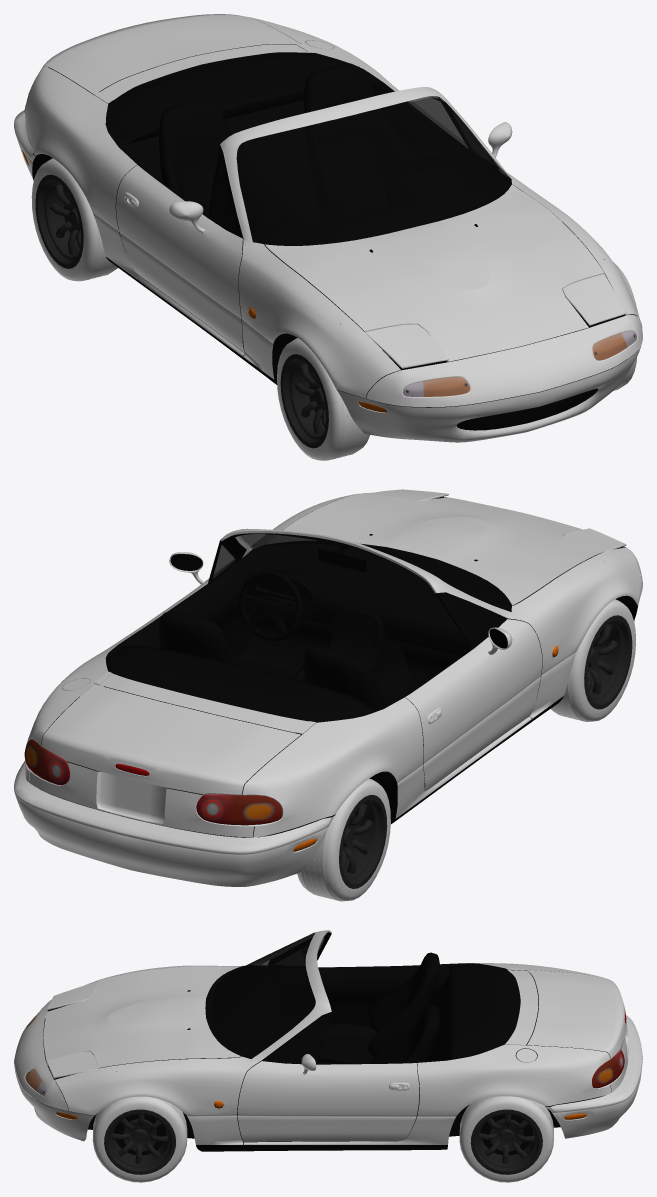
The model's file is miata.obj.
The picture shows the model from 3 angles, top to bottom: view 1: azimuth 30°, elevation 25°; view 2: azimuth 150°, elevation 25°; view 3: azimuth 270°, elevation 25°; orthographic projection. The views are drawn at different scales.
Parts seen in each view (by area): view 1: Cube.001, Circle.004, Circle.005, Cube.007, Plane; view 2: Cube.001, Circle.005, Circle.004, Cube.007; view 3: Cube.001, Circle.002, Circle.003, Cube.007, Plane.
Boxes of the visible parts, x1,y1,x2,y2 form: Cube.001: (14,14,642,442); Circle.004: (277,338,369,460); Circle.005: (31,158,117,281); Cube.007: (365,274,626,373); Plane: (29,44,627,430); Cube.001: (14,492,642,886); Circle.005: (297,778,390,901); Circle.004: (551,599,635,721); Cube.007: (368,489,626,554); Cube.001: (14,930,642,1151); Circle.002: (459,1096,553,1182); Circle.003: (92,1096,187,1182); Cube.007: (46,981,97,1079); Plane: (38,972,622,1148).
Bounding box in the file's own units: 1.24 × 0.8024 × 2.66.
Materials: 12 (1 with a texture image).
